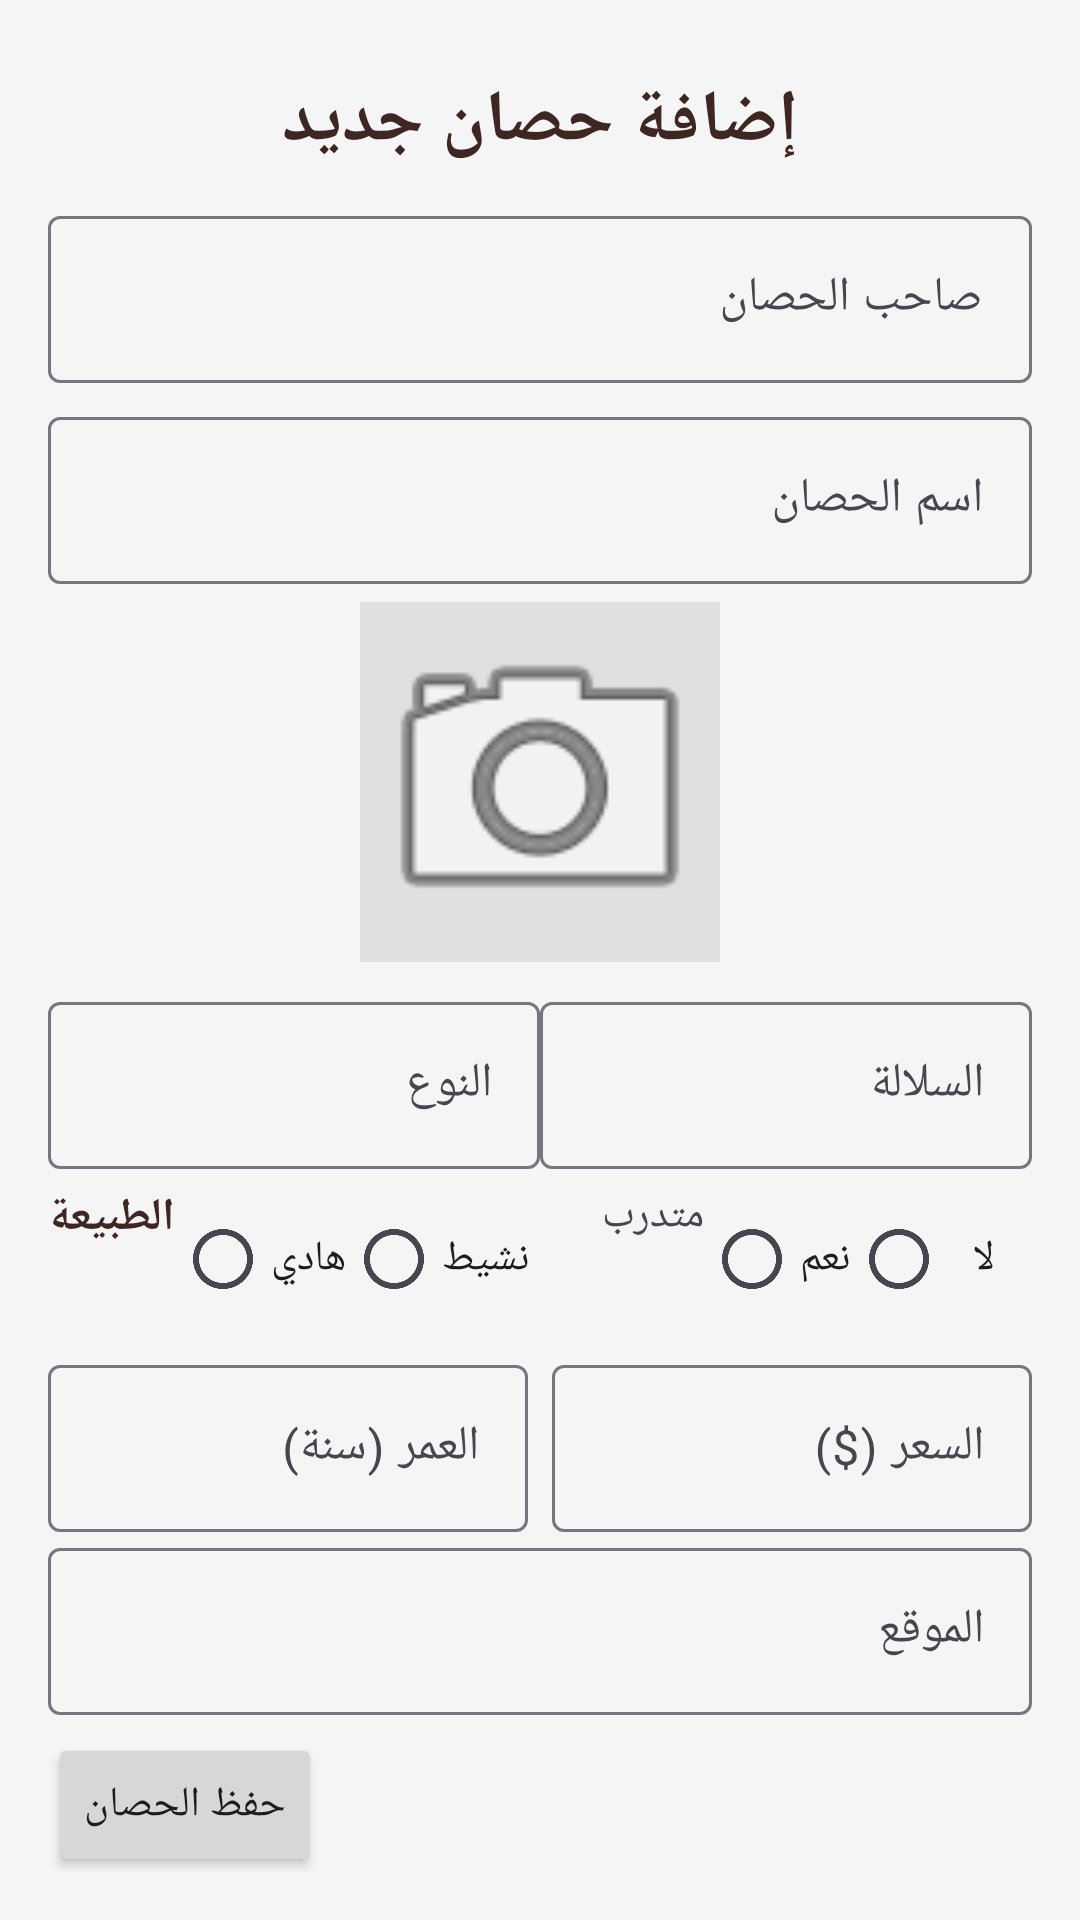

Where icons sit on this 1080w x 1920h app screen, as bbox=(x1, y1, x2, y2):
camera: bbox=(360, 602, 720, 962)
